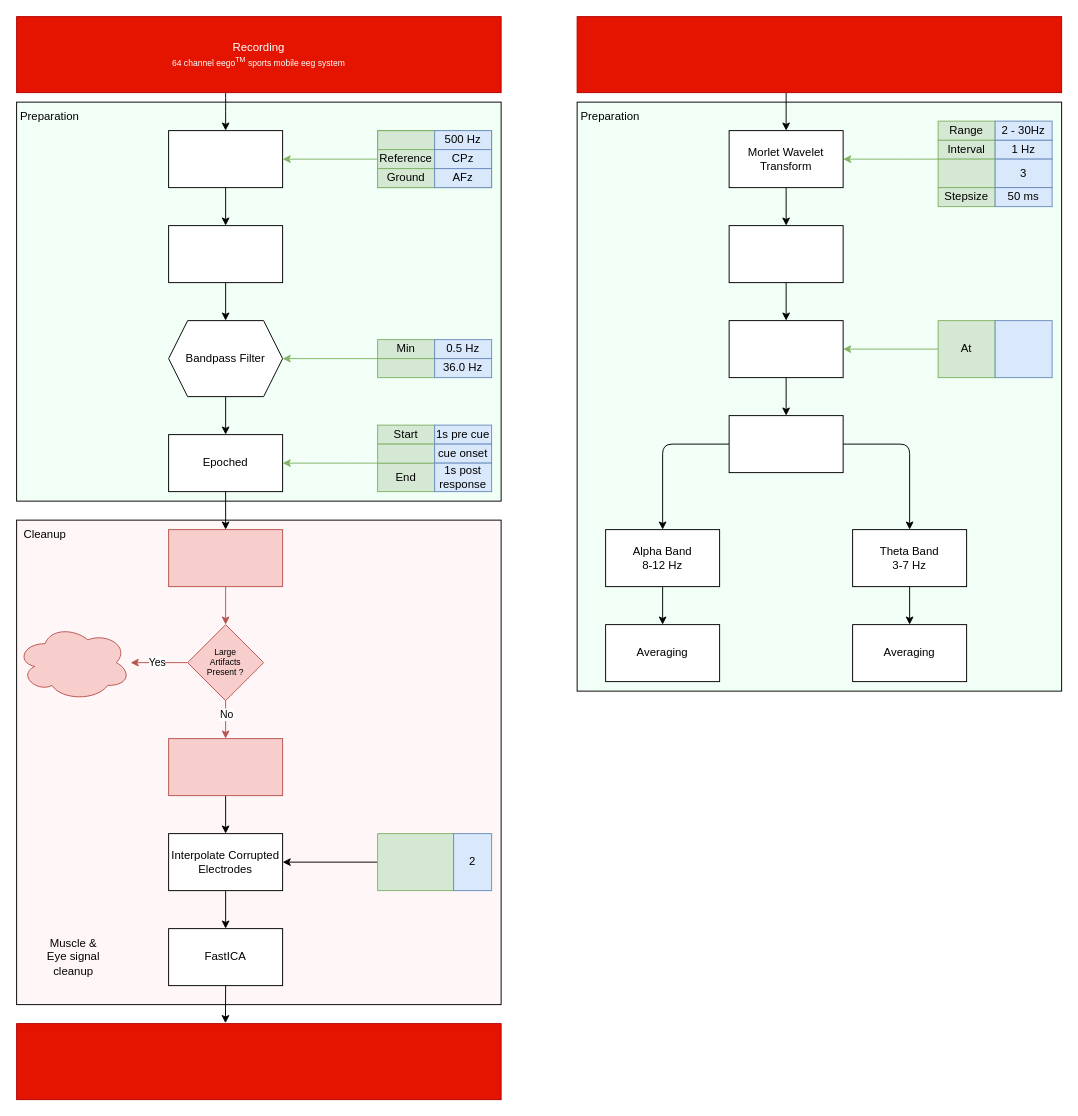
This 1078x1116 diagram has some shape labels left out. The centre of each missing label's shape, as x and y in pixels:
500 ms - 100 ms pre cue: pixel 1023 349
Artifact Inspection: pixel 225 558
Average within Condition: pixel 785 254
Baseline Correction: pixel 785 349
Cycles / window: pixel 966 173
Detrending: pixel 225 254
Digitisation: pixel 225 159
Discard: pixel 73 662
Frequency: pixel 406 140
Identify Corrupted Electrodes: pixel 225 767
Max: pixel 406 368
Max. Interpolated Electrodes: pixel 415 862
Nullpunkt: pixel 406 453
Preprocessed Data: pixel 819 54
Preprocessing Done: pixel 258 1061
Time-Frequency Representation Generated: pixel 785 444
